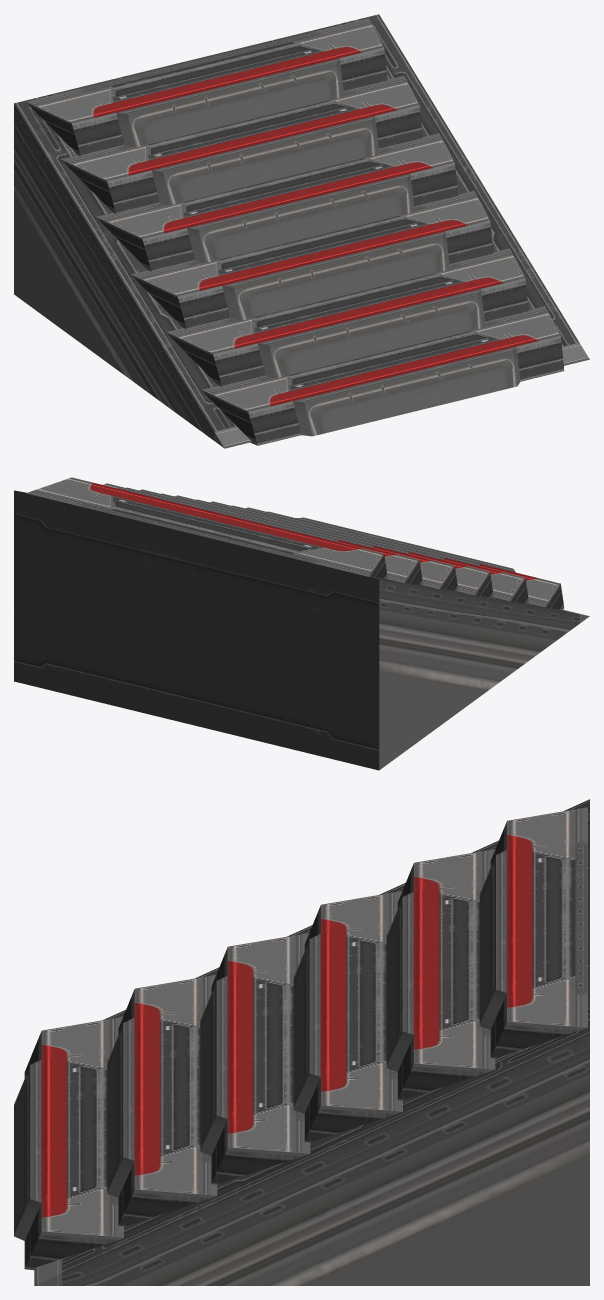
Rendered from platform_stairs_2.gltf.
3 views of the same model, one above another, from view 1: azimuth 30°, elevation 25°; view 2: azimuth 150°, elevation 25°; view 3: azimuth 270°, elevation 25° (orthographic). The views are drawn at different scales.
Visible parts, largest first — view 1: Platform_Stairs_2; view 2: Platform_Stairs_2; view 3: Platform_Stairs_2.
Boxes of the visible parts, x1,y1,x2,y2 form: Platform_Stairs_2: (14, 14, 589, 448); Platform_Stairs_2: (14, 477, 589, 770); Platform_Stairs_2: (14, 799, 589, 1285).
Size of the model in its own units: 2 by 1.01 by 2.07.
Materials: 2 (2 with a texture image).
